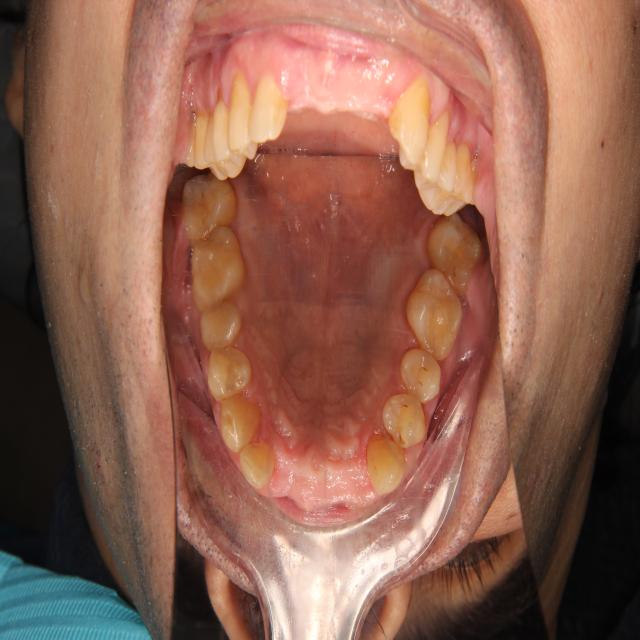tooth: (399, 263, 466, 366), (419, 206, 488, 305), (181, 221, 252, 311), (176, 167, 241, 246), (359, 423, 408, 499), (203, 342, 257, 406), (217, 388, 263, 462), (380, 389, 430, 456), (398, 342, 445, 406), (194, 297, 246, 354), (235, 433, 277, 497)
